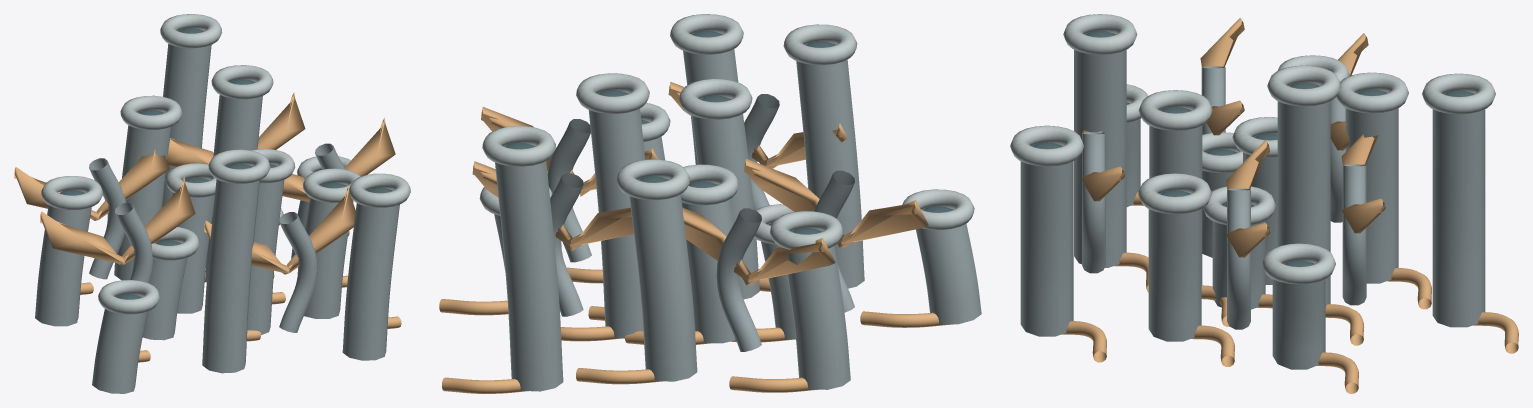
Rendered from bio_thermal_colony_17_near.glb.
The picture shows the model from 3 angles, left to right: view 1: azimuth 30°, elevation 25°; view 2: azimuth 150°, elevation 25°; view 3: azimuth 270°, elevation 25°; orthographic projection. The views are drawn at different scales.
Parts seen in each view (by area): view 1: Chimney biofilm.007, Chimney biofilm.010, Chimney biofilm.009, Chimney biofilm.011, Chimney biofilm.012, Secondary fan lobe.008, Chimney biofilm.002, Chimney biofilm.006, Chimney biofilm.005, Branching support.002, Chimney biofilm.003, Chimney biofilm.001 (+20 smaller); view 2: Chimney biofilm.011, Chimney biofilm.006, Chimney biofilm.007, Chimney biofilm.003, Chimney biofilm.009, Chimney biofilm.012, Secondary fan lobe.008, Chimney biofilm.002, Chimney biofilm.001, Branching support.001, Secondary fan lobe.002, Open vent rim.006 (+26 smaller); view 3: Chimney biofilm.011, Chimney biofilm.010, Chimney biofilm.003, Chimney biofilm.007, Chimney biofilm.005, Chimney biofilm.006, Chimney biofilm.008, Branching support.003, Branching support, Branching support.002, Chimney biofilm.002, Open vent rim.005 (+30 smaller).
Part boxes in pixels (x1,y1,x2,y2): Chimney biofilm.007: [202, 166, 259, 373]; Chimney biofilm.010: [342, 189, 399, 360]; Chimney biofilm.009: [35, 192, 91, 326]; Chimney biofilm.011: [162, 30, 211, 206]; Chimney biofilm.012: [92, 296, 147, 393]; Secondary fan lobe.008: [40, 176, 195, 265]; Chimney biofilm.002: [247, 165, 284, 334]; Chimney biofilm.006: [114, 112, 171, 280]; Chimney biofilm.005: [304, 185, 353, 318]; Branching support.002: [279, 212, 317, 332]; Chimney biofilm.003: [205, 81, 262, 281]; Chimney biofilm.001: [172, 179, 214, 313]; Chimney biofilm.011: [495, 144, 563, 391]; Chimney biofilm.006: [629, 178, 697, 381]; Chimney biofilm.007: [796, 43, 864, 288]; Chimney biofilm.003: [588, 92, 645, 338]; Chimney biofilm.009: [787, 230, 850, 389]; Chimney biofilm.012: [916, 208, 981, 324]; Secondary fan lobe.008: [744, 158, 928, 248]; Chimney biofilm.002: [691, 98, 759, 299]; Chimney biofilm.001: [681, 183, 743, 343]; Branching support.001: [716, 208, 761, 351]; Secondary fan lobe.002: [682, 207, 835, 286]; Open vent rim.006: [616, 159, 689, 200]; Chimney biofilm.011: [1432, 93, 1485, 327]; Chimney biofilm.010: [1020, 145, 1073, 336]; Chimney biofilm.003: [1277, 85, 1330, 307]; Chimney biofilm.007: [1074, 33, 1126, 267]; Chimney biofilm.005: [1148, 192, 1201, 341]; Chimney biofilm.006: [1345, 92, 1398, 283]; Chimney biofilm.008: [1272, 263, 1325, 369]; Branching support.003: [1342, 164, 1366, 305]; Branching support: [1227, 188, 1250, 329]; Branching support.002: [1082, 132, 1105, 273]; Chimney biofilm.002: [1149, 109, 1202, 284]; Open vent rim.005: [1138, 173, 1211, 214].
Bounding box in the file's own units: 1.85 × 1.03 × 1.92.
